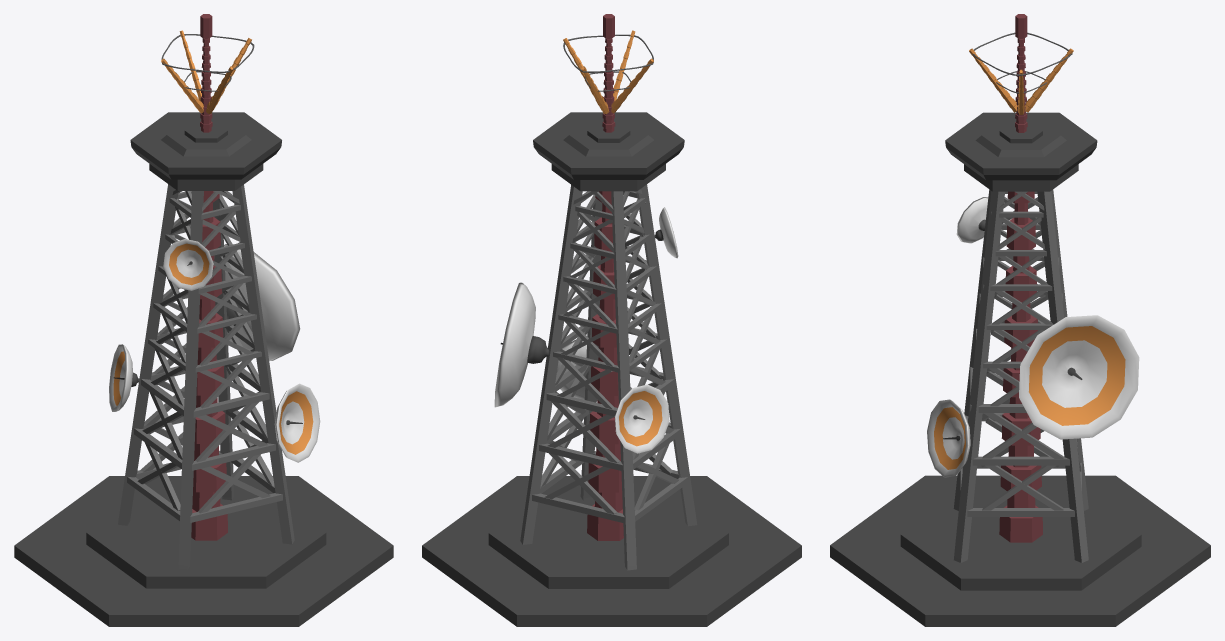
File: RadioTower.fbx
3 renders of one model, left to right at view 1: azimuth 30°, elevation 25°; view 2: azimuth 150°, elevation 25°; view 3: azimuth 270°, elevation 25°, orthographic.
Visible parts, largest first — view 1: Cylinder.001, Cylinder, Cube.040, Cube.003, Cube, Cube.001, Cylinder.007, Cube.050, Cylinder.009, Cylinder.008, Cube.041, Cylinder.006 (+7 smaller); view 2: Cylinder.001, Cylinder, Cube.042, Cube.002, Cube.001, Cube, Cylinder.007, Cylinder.006, Cube.050, Cube.041, Cube.003, Cube.040 (+5 smaller); view 3: Cylinder.001, Cylinder.007, Cylinder, Cube.041, Cube.003, Cube.002, Cylinder.009, Cube.050, Cylinder.008, Cube, Cube.004, Cube.009 (+1 smaller).
Part boxes in pixels (left/top/right/bottom): Cylinder.001: left=14, top=191, right=393, bottom=626; Cylinder: left=130, top=14, right=281, bottom=190; Cube.040: left=195, top=191, right=270, bottom=513; Cube.003: left=232, top=184, right=294, bottom=544; Cube: left=178, top=191, right=203, bottom=569; Cube.001: left=118, top=184, right=178, bottom=525; Cylinder.007: left=224, top=244, right=300, bottom=360; Cube.050: left=137, top=190, right=191, bottom=510; Cylinder.009: left=274, top=383, right=320, bottom=462; Cylinder.008: left=163, top=239, right=213, bottom=290; Cube.041: left=217, top=194, right=274, bottom=485; Cylinder.006: left=109, top=344, right=139, bottom=411; Cylinder.001: left=422, top=191, right=801, bottom=626; Cylinder: left=533, top=14, right=684, bottom=191; Cube.042: left=544, top=191, right=619, bottom=514; Cube.002: left=520, top=184, right=582, bottom=544; Cube.001: left=611, top=191, right=636, bottom=570; Cube: left=636, top=184, right=697, bottom=526; Cylinder.007: left=494, top=282, right=549, bottom=407; Cylinder.006: left=615, top=384, right=669, bottom=453; Cube.050: left=623, top=189, right=678, bottom=510; Cube.041: left=540, top=194, right=597, bottom=487; Cube.003: left=580, top=194, right=602, bottom=500; Cube.040: left=623, top=202, right=673, bottom=475; Cylinder.001: left=830, top=191, right=1210, bottom=626; Cylinder.007: left=1019, top=315, right=1139, bottom=439; Cylinder: left=945, top=14, right=1097, bottom=191; Cube.041: left=982, top=191, right=1063, bottom=510; Cube.003: left=954, top=191, right=1004, bottom=562; Cube.002: left=1037, top=191, right=1088, bottom=562; Cylinder.009: left=927, top=399, right=970, bottom=477; Cube.050: left=981, top=197, right=1058, bottom=467; Cylinder.008: left=956, top=197, right=988, bottom=243; Cube: left=953, top=189, right=991, bottom=510; Cube.004: left=967, top=508, right=1074, bottom=516; Cube.009: left=972, top=456, right=1069, bottom=465.
Size of the model in its own units: 259 by 470 by 299.
